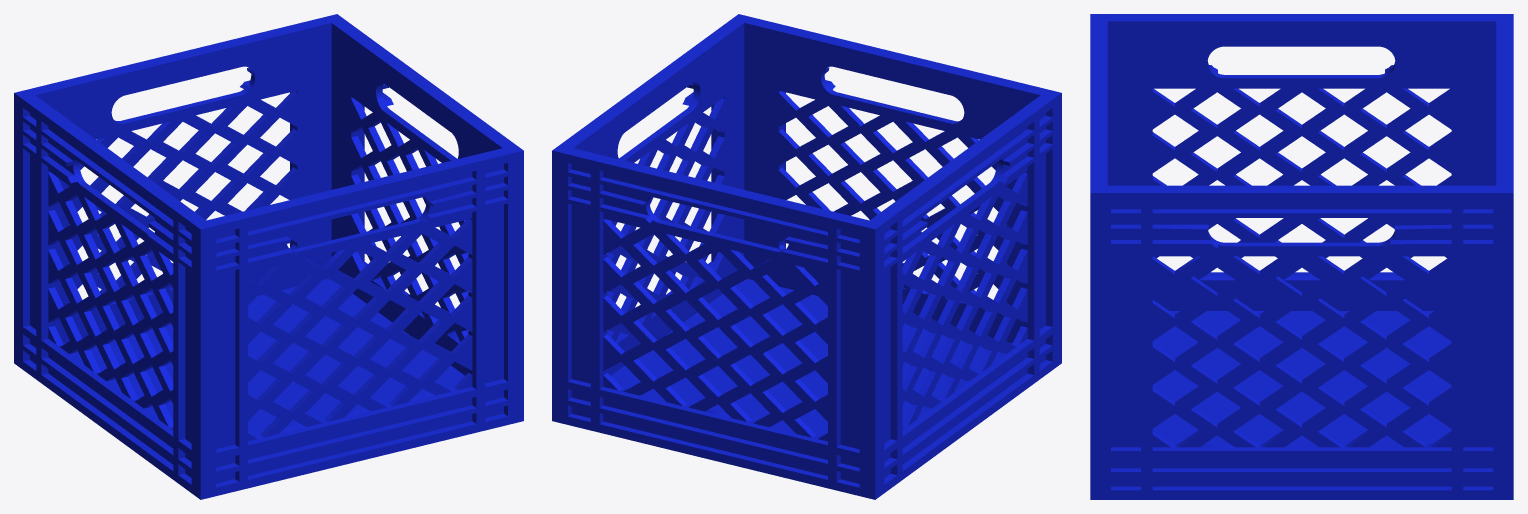
File: milkcrate.glb
3 renders of one model, left to right at view 1: azimuth 30°, elevation 25°; view 2: azimuth 150°, elevation 25°; view 3: azimuth 270°, elevation 25°, orthographic. The views are drawn at different scales.
Visible parts, largest first — view 1: Object_2; view 2: Object_2; view 3: Object_2.
Part boxes in pixels (x1,y1,x2,y2): Object_2: [14, 14, 523, 499]; Object_2: [552, 14, 1061, 499]; Object_2: [1090, 14, 1513, 499].
Size of the model in its own units: 2.5 by 2 by 2.5.
